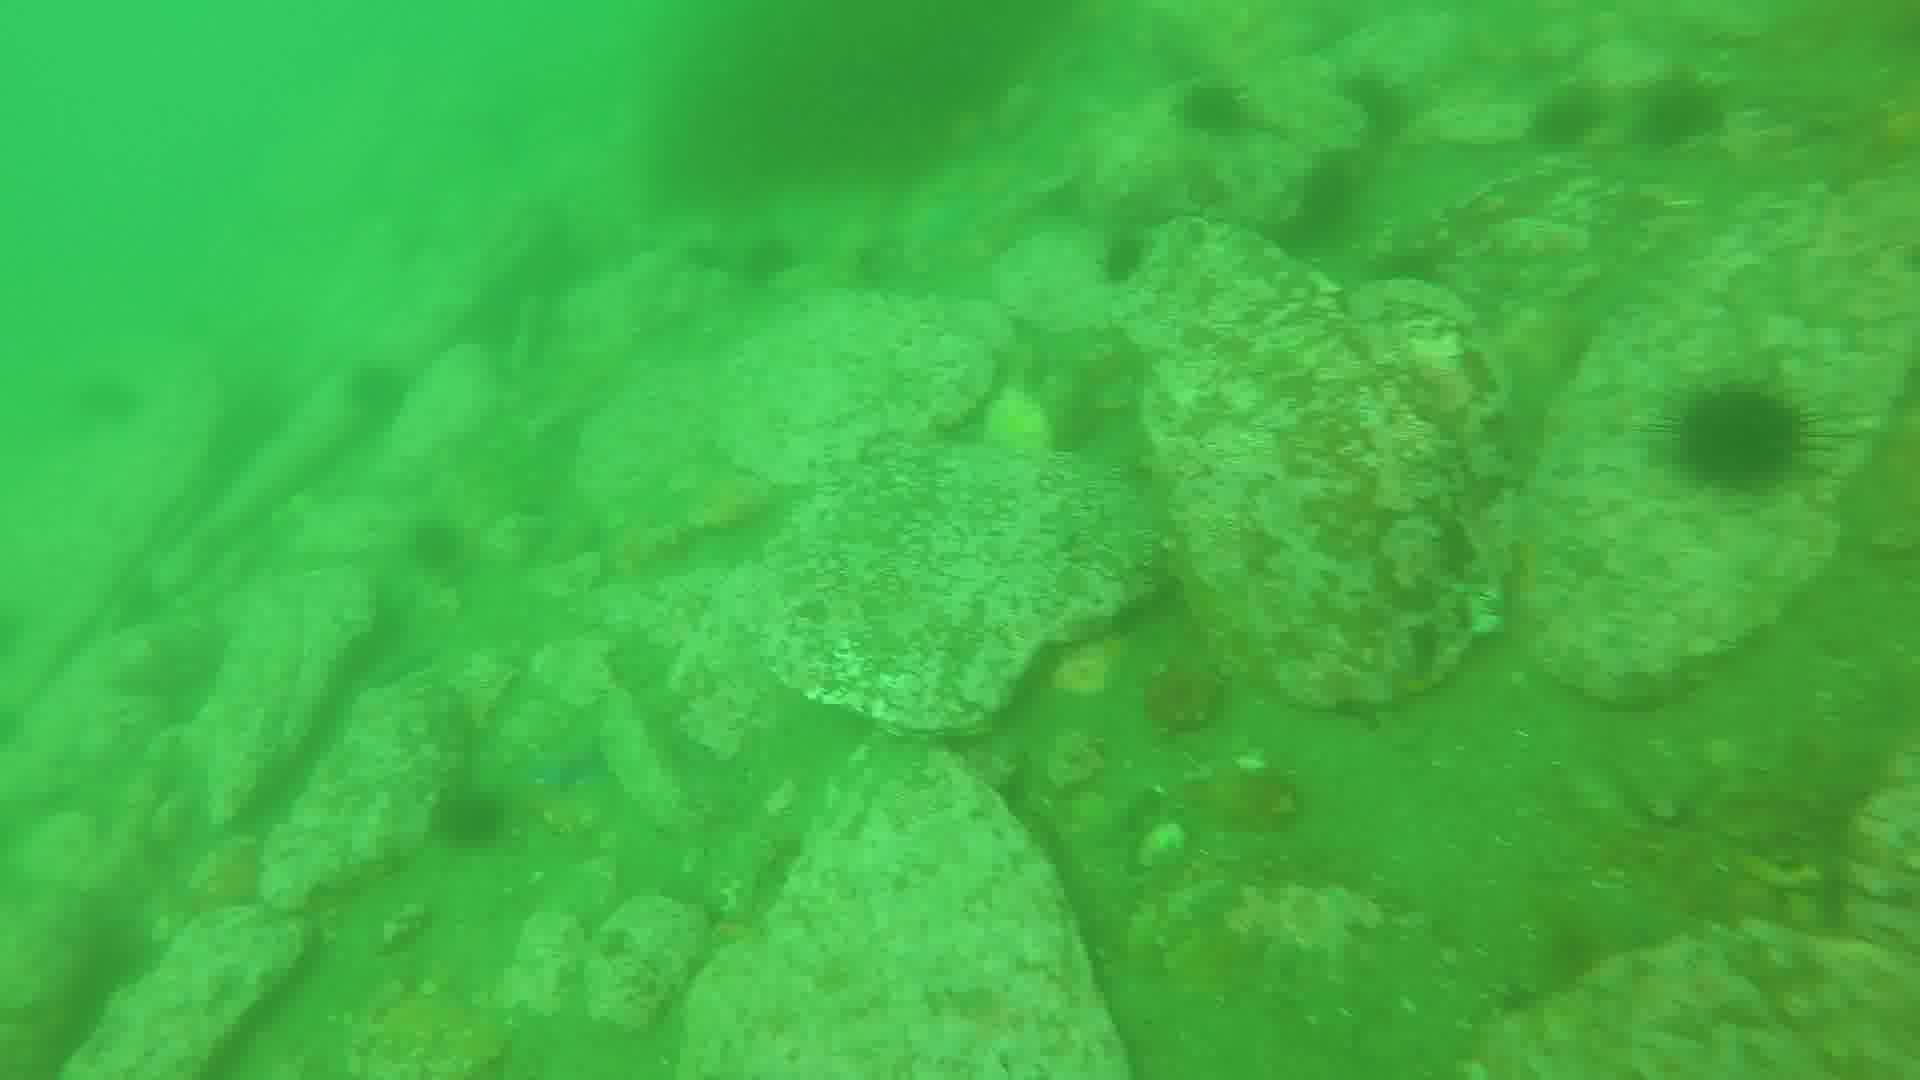echinus: (1671, 381, 1803, 488), (1305, 165, 1371, 240), (1646, 84, 1725, 140), (436, 793, 512, 841), (1528, 98, 1596, 146), (1178, 84, 1247, 131), (410, 524, 468, 575), (349, 371, 404, 425), (1352, 84, 1404, 136), (86, 378, 142, 419), (741, 239, 787, 287), (1106, 229, 1153, 276)
starfish: (538, 732, 613, 804)
